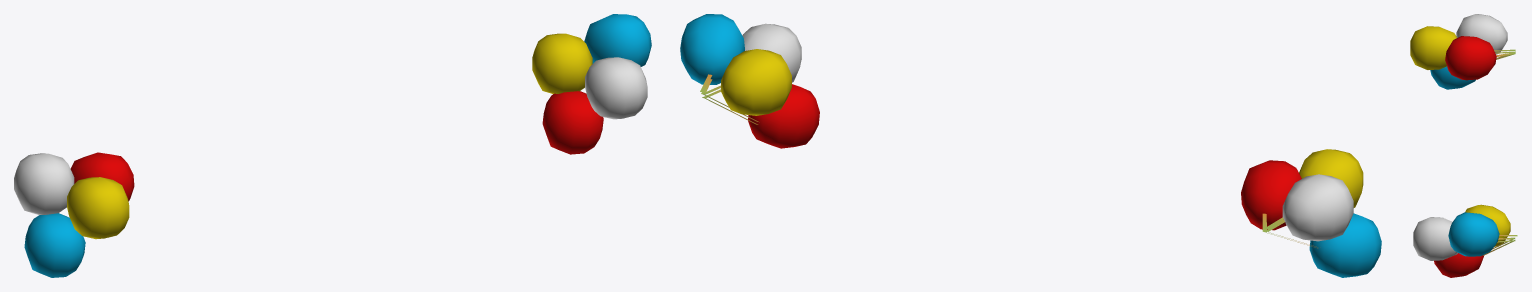
The model's file is StartingLine.glb.
3 views of the same model, side by side, from view 1: azimuth 30°, elevation 25°; view 2: azimuth 150°, elevation 25°; view 3: azimuth 270°, elevation 25° (orthographic). The views are drawn at different scales.
Parts seen in each view (by area): view 1: MeshNode_1; view 2: MeshNode_1, MeshNode_0; view 3: MeshNode_1, MeshNode_0.
Part boxes in pixels (x1,y1,x2,y2): MeshNode_1: (14, 14, 651, 277); MeshNode_1: (680, 14, 1381, 277); MeshNode_0: (700, 74, 1317, 248); MeshNode_1: (1410, 14, 1510, 277); MeshNode_0: (1483, 49, 1517, 255).
Size of the model in its own units: 32.59 by 5.53 by 6.63.
